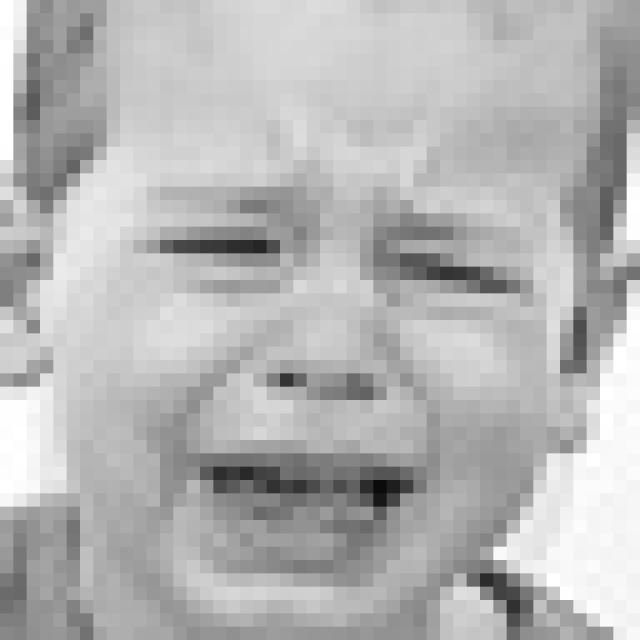sad: (131, 159, 534, 578)
